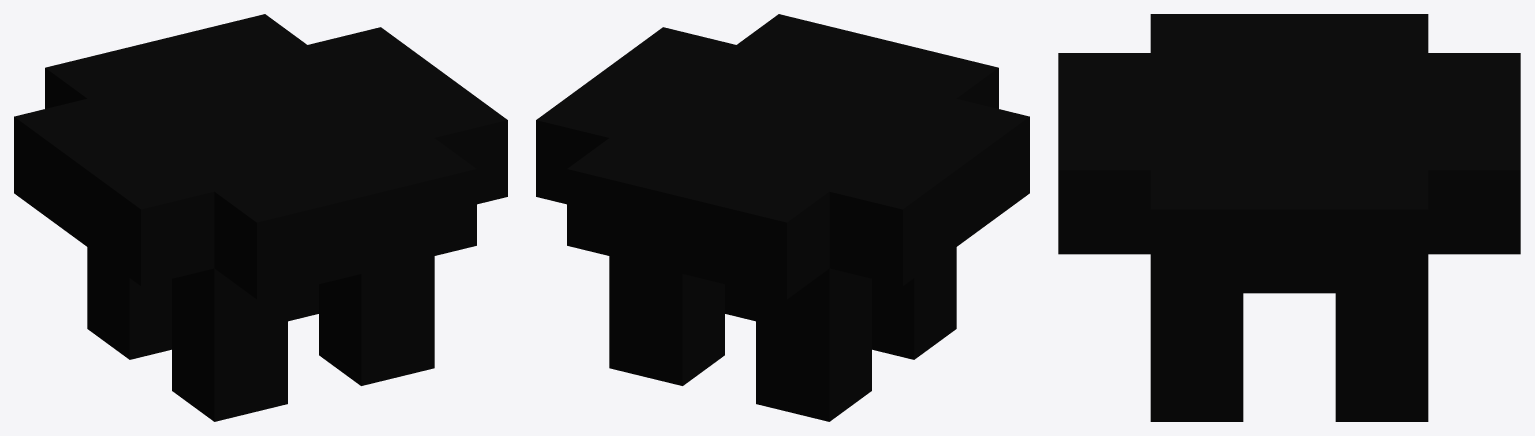
File: tavern-47-stool.glb
The picture shows the model from 3 angles, left to right: view 1: azimuth 30°, elevation 25°; view 2: azimuth 150°, elevation 25°; view 3: azimuth 270°, elevation 25°; orthographic projection. The views are drawn at different scales.
Parts seen in each view (by area): view 1: stool; view 2: stool; view 3: stool.
Boxes of the visible parts, box(x1,y1,x2,y2) form: stool: box(14, 14, 507, 421); stool: box(536, 14, 1029, 421); stool: box(1058, 14, 1520, 421).
Size of the model in its own units: 0.5 by 0.3 by 0.5.
Materials: 1 (1 with a texture image).
